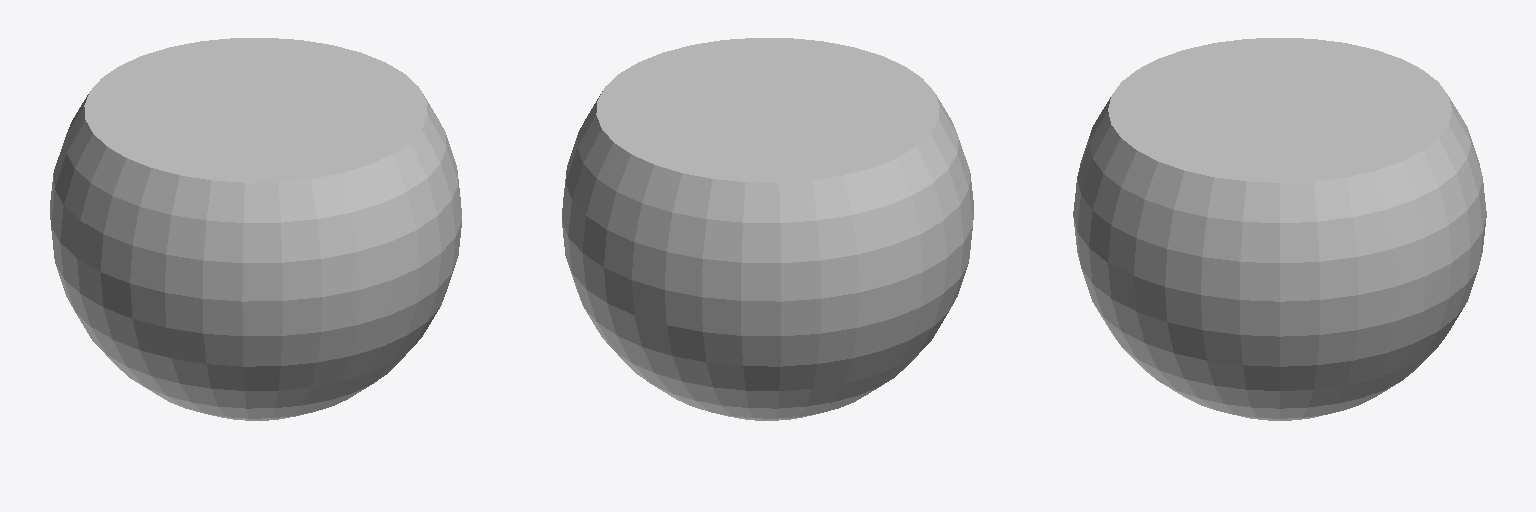
The model's file is CutSphere.obj.
3 views of the same model, side by side, from view 1: azimuth 30°, elevation 25°; view 2: azimuth 150°, elevation 25°; view 3: azimuth 270°, elevation 25° (orthographic).
Visible parts, largest first — view 1: Sphere; view 2: Sphere; view 3: Sphere.
Boxes of the visible parts, x1=… form: Sphere: x1=50, y1=38, x2=461, y2=420; Sphere: x1=562, y1=38, x2=973, y2=420; Sphere: x1=1073, y1=38, x2=1486, y2=420.
Size of the model in its own units: 2 by 1.56 by 2.